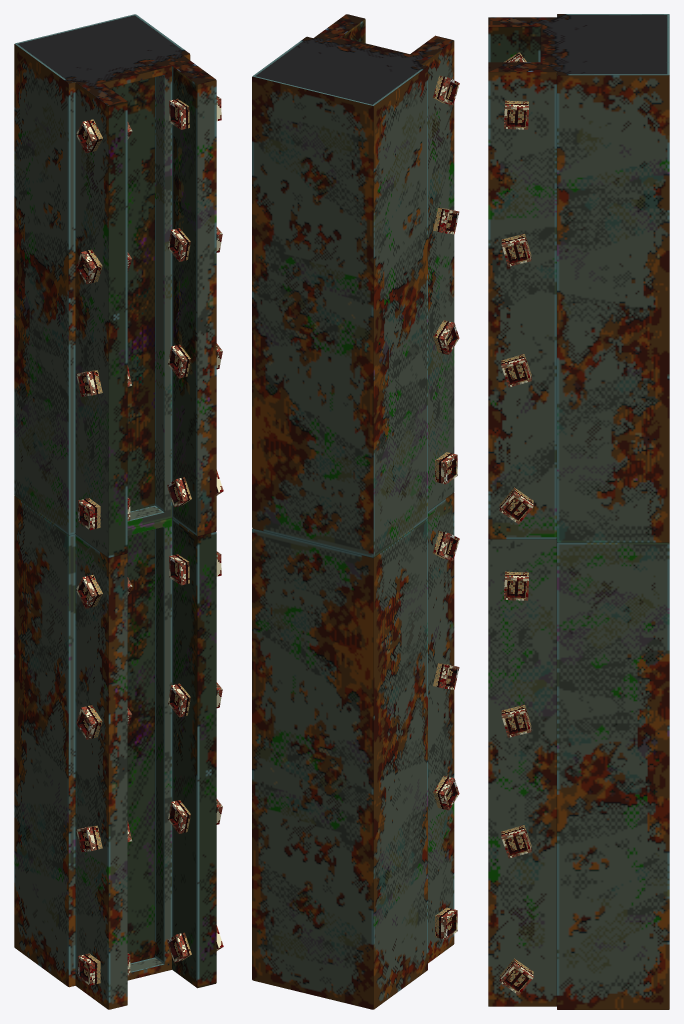
File: DoublePillar.fbx
3 renders of one model, left to right at view 1: azimuth 30°, elevation 25°; view 2: azimuth 150°, elevation 25°; view 3: azimuth 270°, elevation 25°, orthographic. The views are drawn at different scales.
Visible parts, largest first — view 1: Pilar_1, Pilar, Bolt, Bolt_8, Bolt_2, Bolt_10, Bolt_4, Bolt_12, Bolt_13, Bolt_5, Bolt_15, Bolt_7 (+6 smaller); view 2: Pilar_1, Pilar, Bolt_1, Bolt_9, Bolt, Bolt_8, Bolt_3, Bolt_11, Bolt_10, Bolt_2; view 3: Pilar_1, Pilar, Bolt_6, Bolt_14, Bolt_5, Bolt_4, Bolt_12, Bolt_13, Bolt_7, Bolt_15.
Part boxes in pixels (<box>): Pilar_1: <box>14,14,216,557</box>; Pilar: <box>14,496,216,1009</box>; Bolt: <box>78,953,130,985</box>; Bolt_8: <box>78,497,130,530</box>; Bolt_2: <box>76,705,131,739</box>; Bolt_10: <box>76,249,131,284</box>; Bolt_4: <box>168,682,222,717</box>; Bolt_12: <box>168,227,222,261</box>; Bolt_13: <box>168,343,222,378</box>; Bolt_5: <box>168,799,222,833</box>; Bolt_15: <box>169,96,221,129</box>; Bolt_7: <box>169,551,221,585</box>; Pilar_1: <box>252,14,454,557</box>; Pilar: <box>252,493,454,1009</box>; Bolt_1: <box>433,775,459,810</box>; Bolt_9: <box>433,320,459,354</box>; Bolt: <box>435,907,457,939</box>; Bolt_8: <box>435,452,457,484</box>; Bolt_3: <box>433,531,459,560</box>; Bolt_11: <box>433,75,459,105</box>; Bolt_10: <box>433,208,459,234</box>; Bolt_2: <box>433,663,459,689</box>; Pilar_1: <box>488,14,669,542</box>; Pilar: <box>488,538,669,1009</box>; Bolt_6: <box>499,958,533,995</box>; Bolt_14: <box>499,487,533,524</box>; Bolt_5: <box>501,825,531,858</box>; Bolt_4: <box>501,705,531,737</box>; Bolt_12: <box>501,234,531,266</box>; Bolt_13: <box>501,354,531,387</box>; Bolt_7: <box>504,571,528,600</box>; Bolt_15: <box>504,100,528,129</box>.
Bounding box in the file's own units: 122 × 800 × 141.
